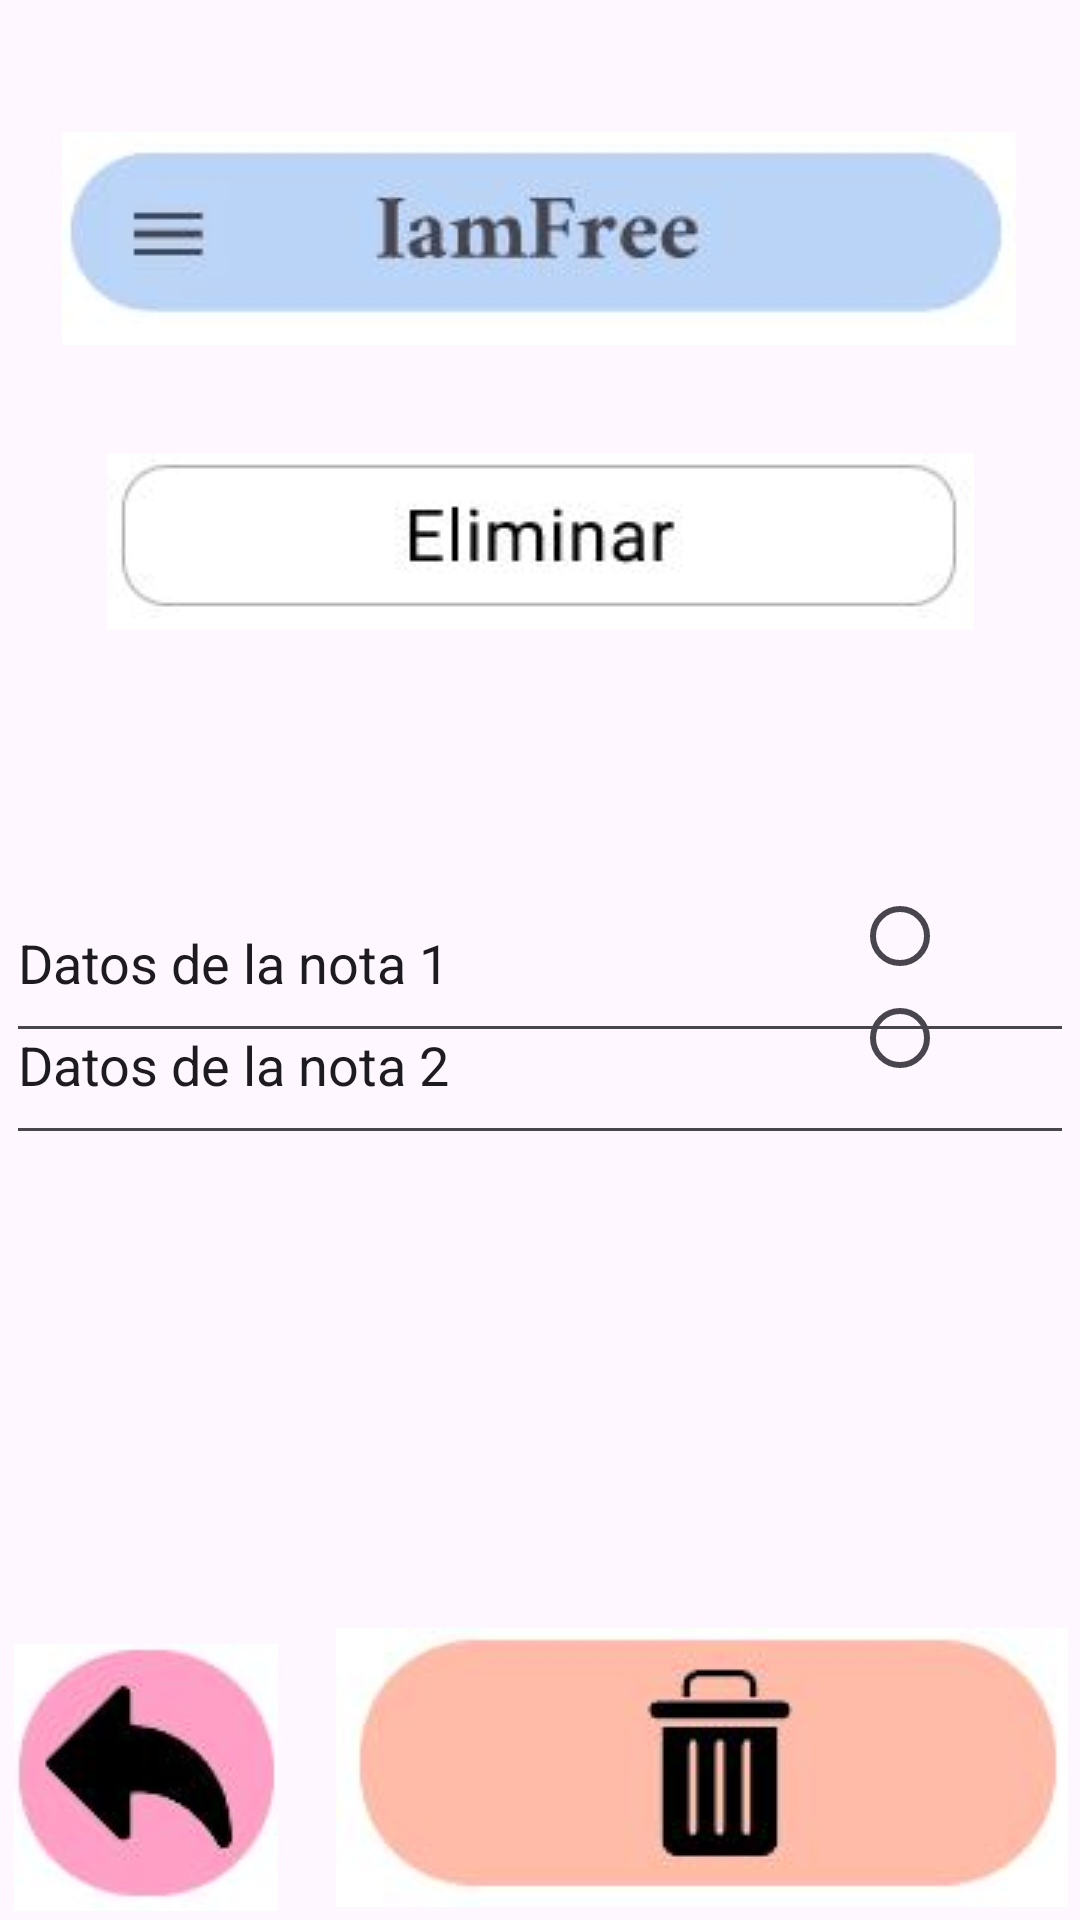

Where to tap for icons on this 1080px x 1920px app screen, as (x,y):
atras: (146,1773)
